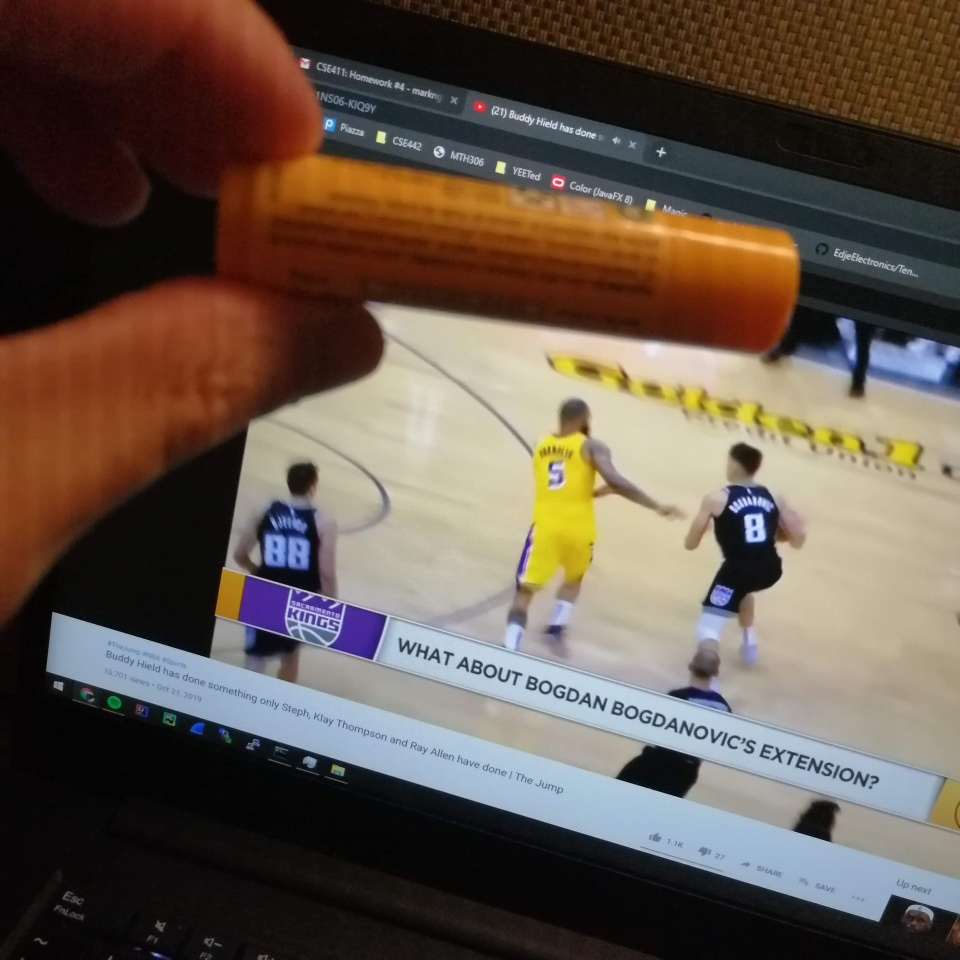chapstick: (207, 135, 803, 362)
